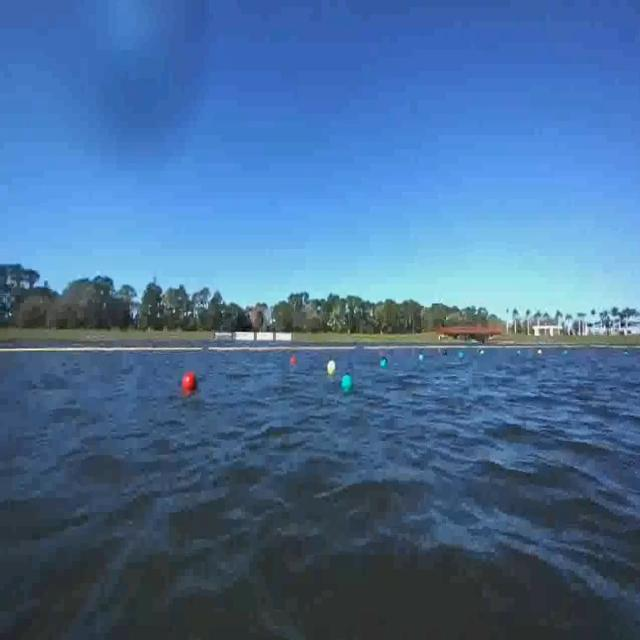green-buoy: (342, 375, 354, 394)
red-buoy: (185, 371, 201, 396), (290, 356, 296, 366)
yellow-buoy: (327, 359, 335, 375)
